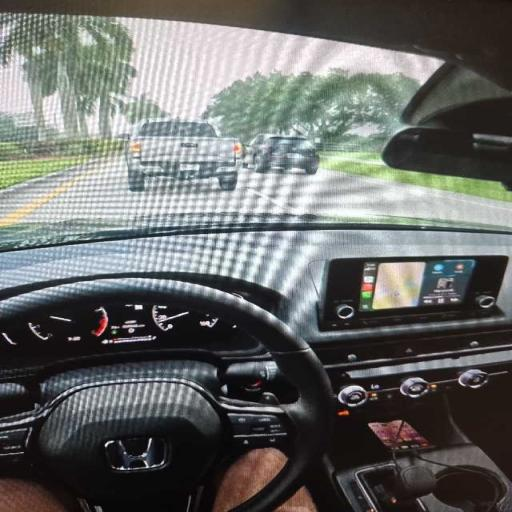car: (0, 0, 511, 511), (246, 134, 319, 174)
lane: (0, 158, 511, 225)
person: (0, 478, 83, 511)
truck: (126, 119, 242, 191)
